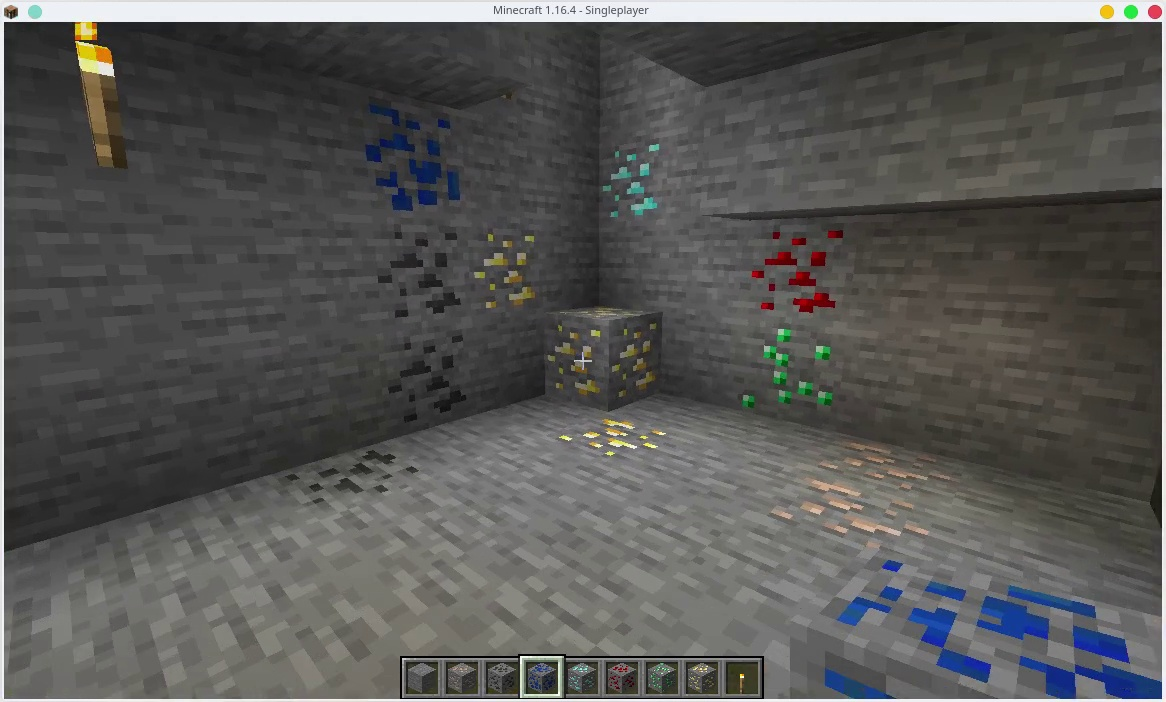gold: (547, 308, 658, 397), (552, 414, 675, 460), (474, 221, 536, 311), (686, 662, 717, 695)
